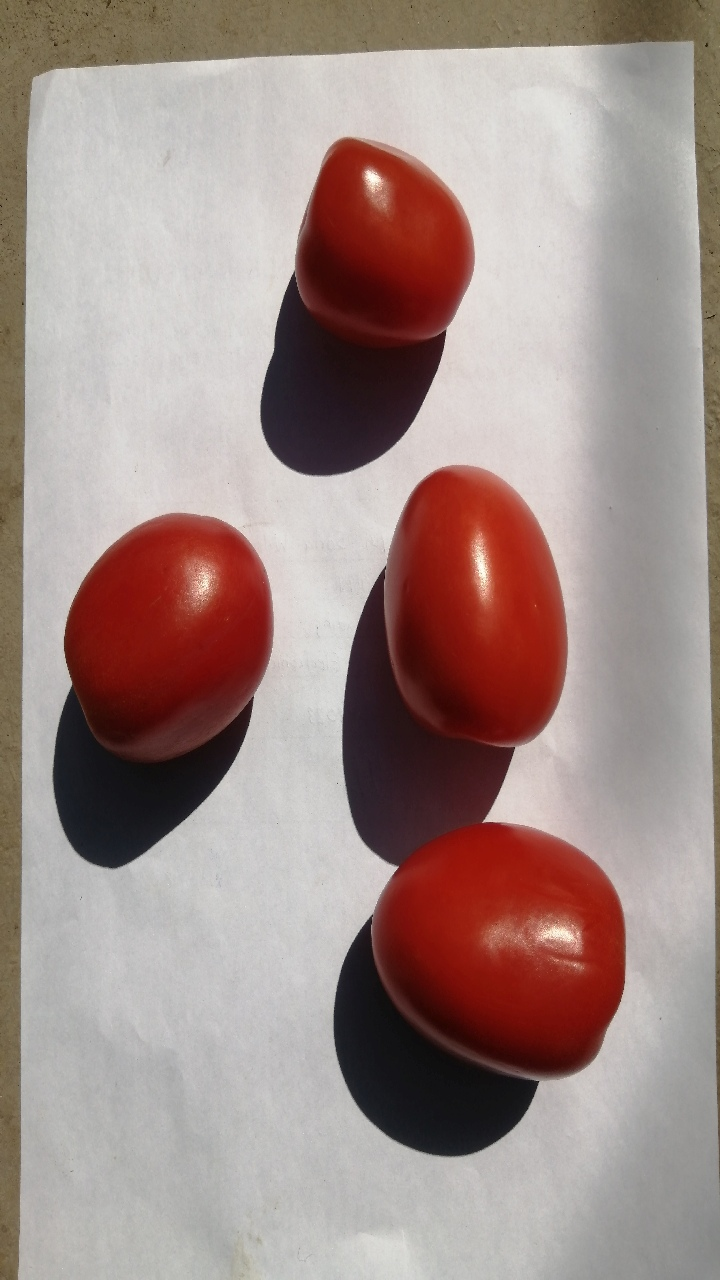tomateRojo: (348, 814, 643, 1088), (37, 499, 300, 768), (360, 451, 577, 765), (266, 123, 483, 363)
